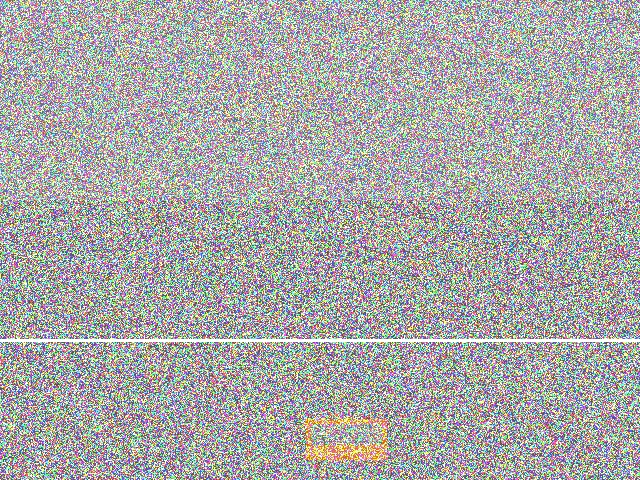bus: (40, 112, 179, 201)
